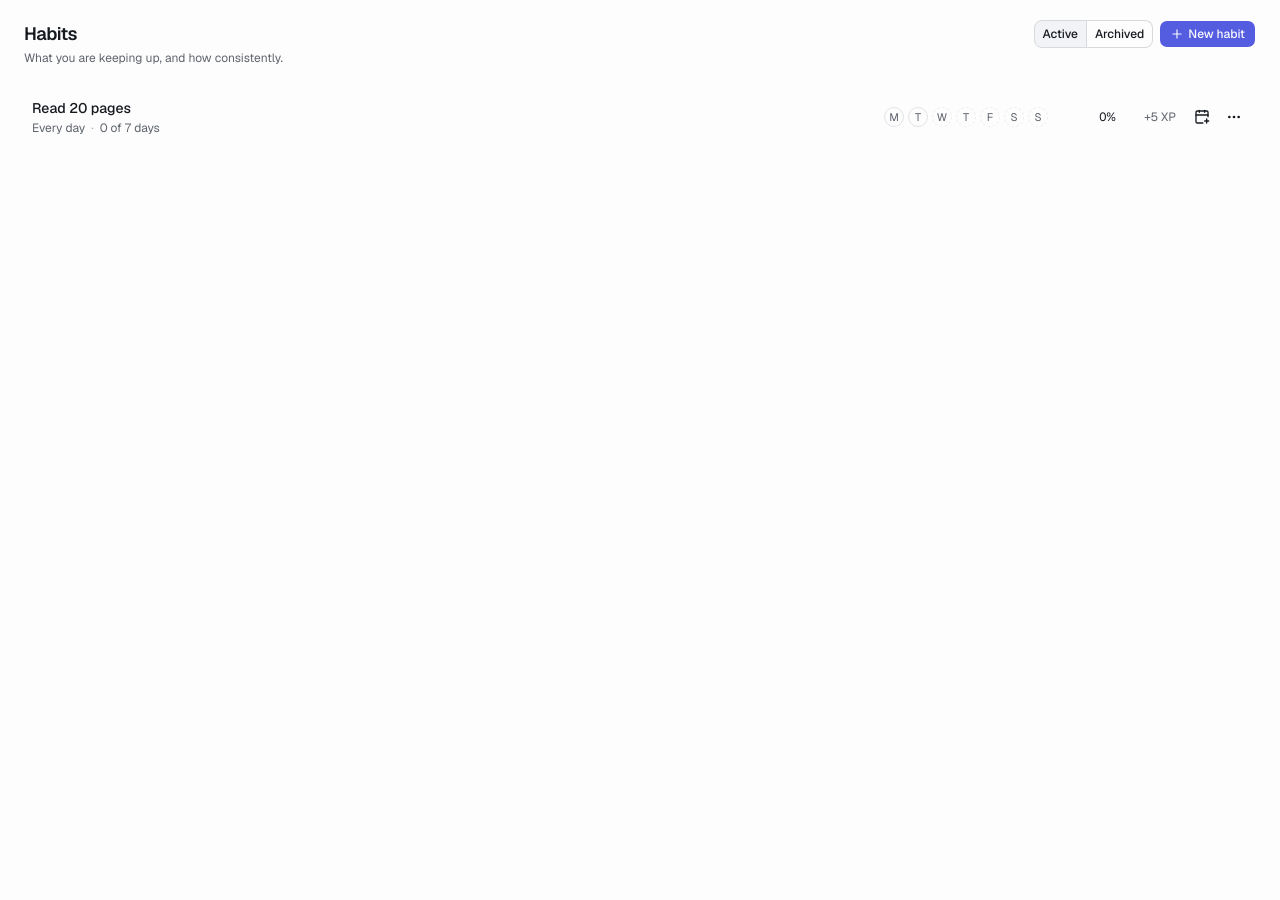
Test: deleting a habit › cancels on Escape and hands focus back to the row's menu
Press Enter in the button named "Options for Read 20 pages", box [1220,103,1248,131]
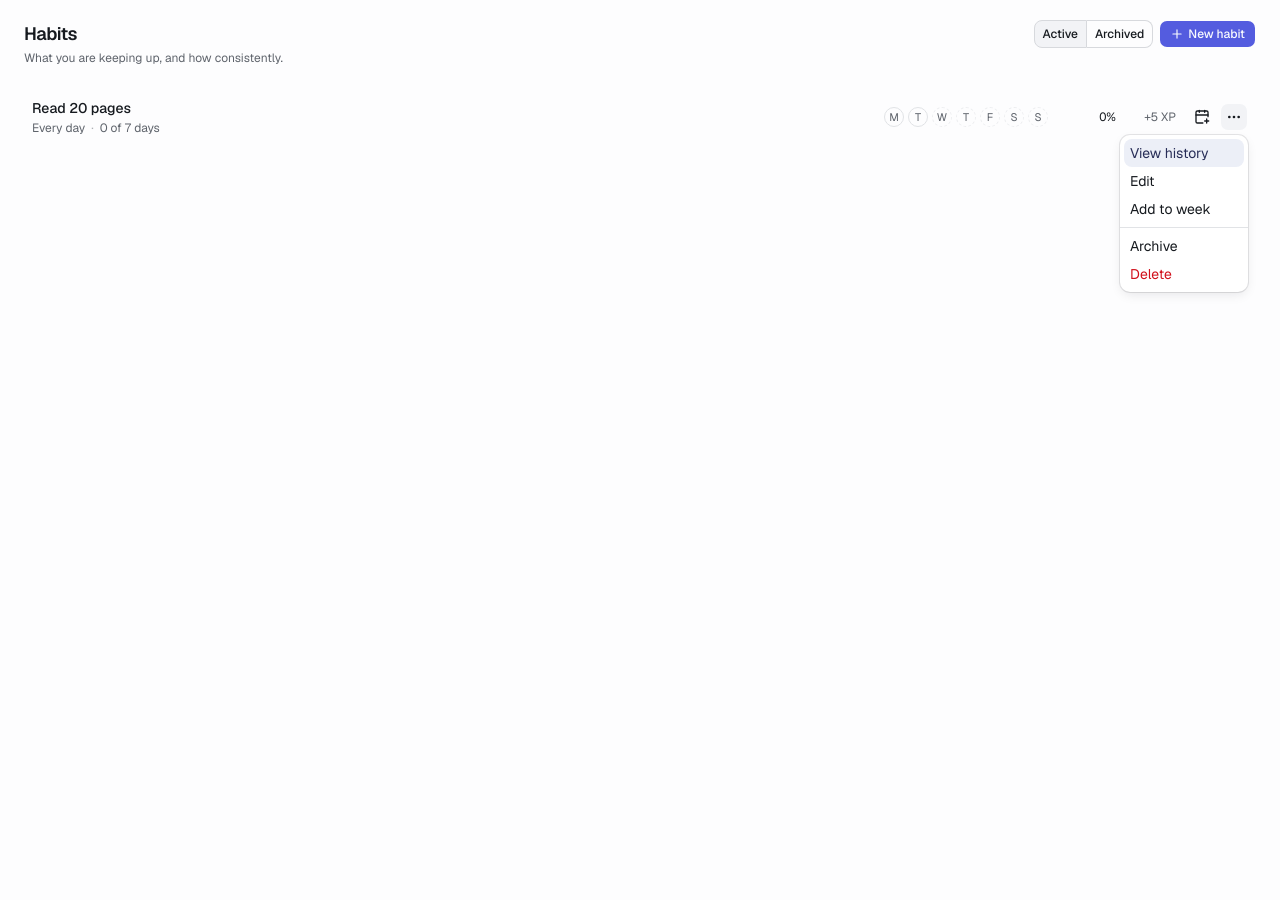
Click the menu item "Delete" at coordinates (1151, 274), box [1130,265,1172,283]
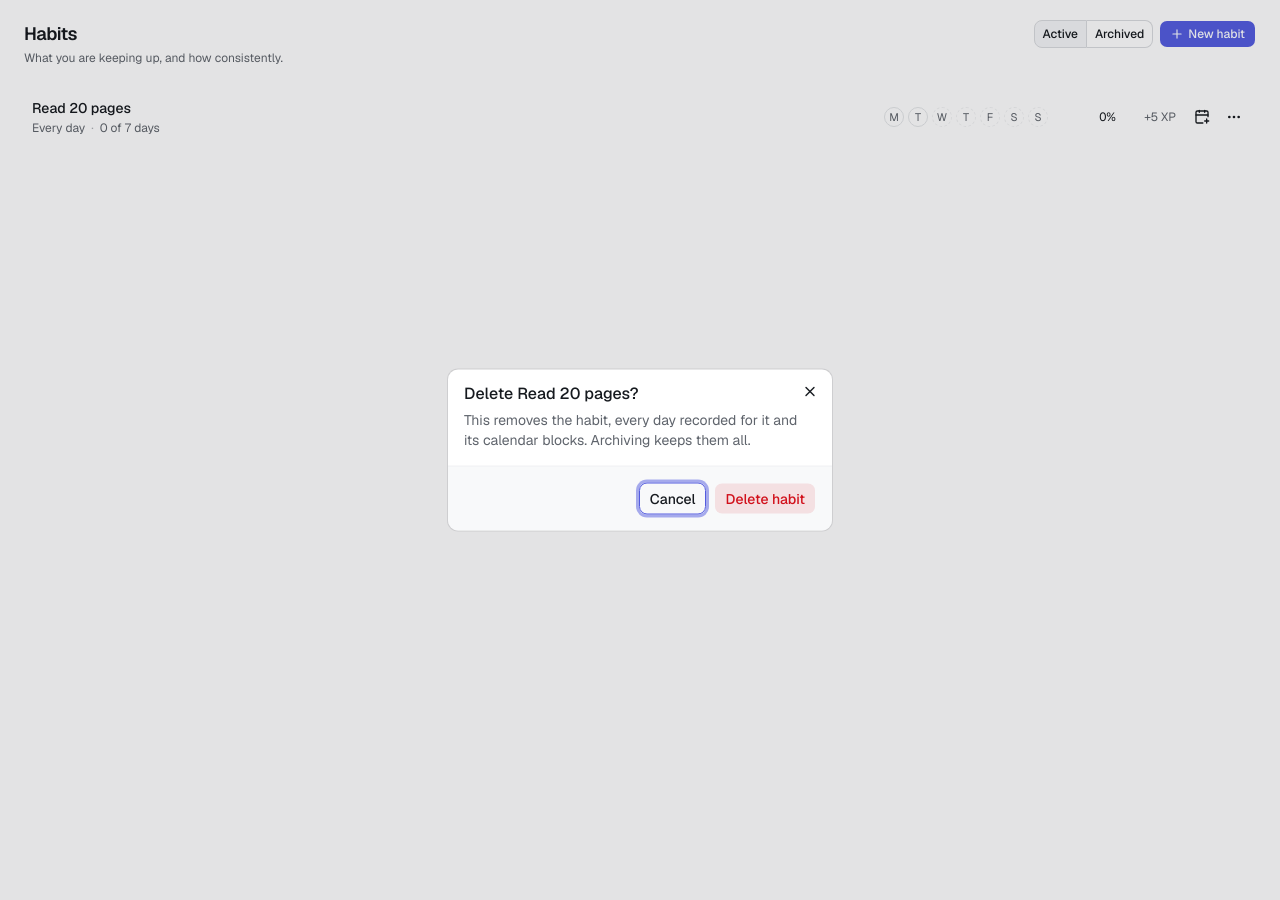
Press Escape in the dialog "Delete Read 20 pages?", box [448,370,832,530]
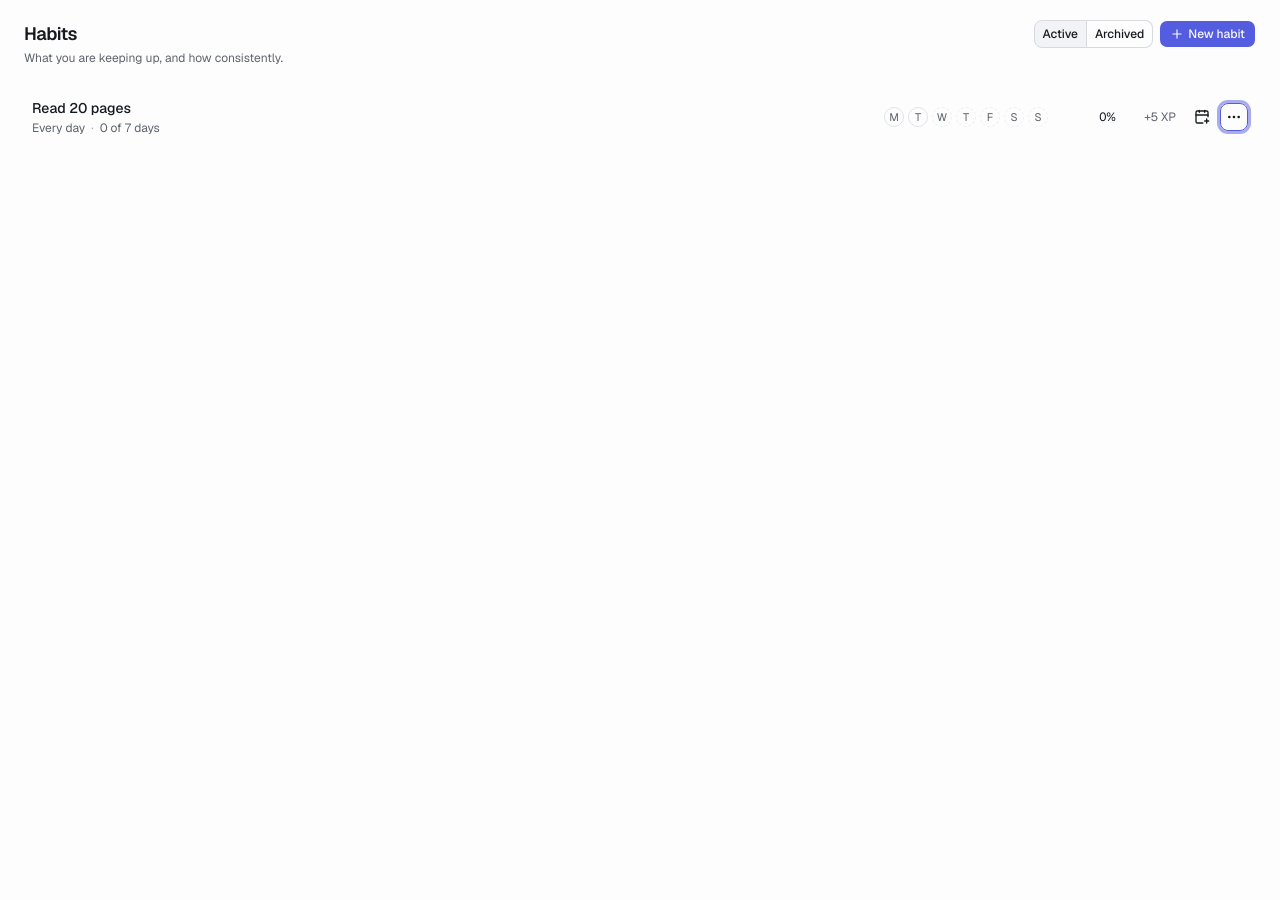
Expected: the dialog is gone
